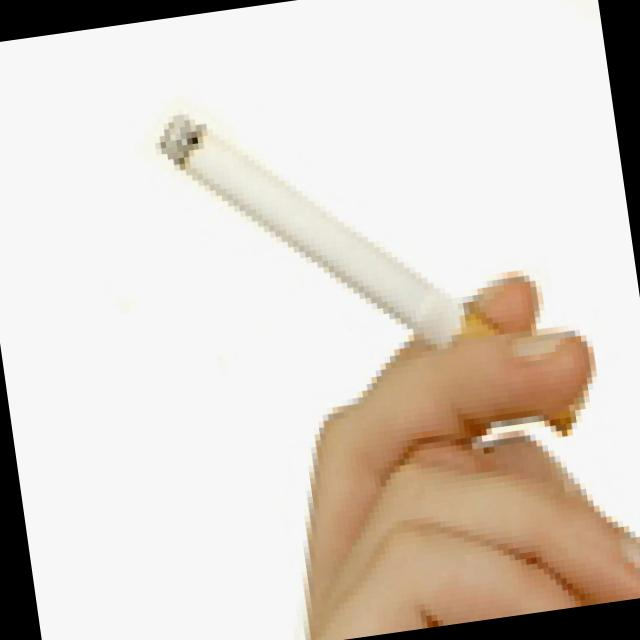cigarette: (134, 40, 599, 494)
